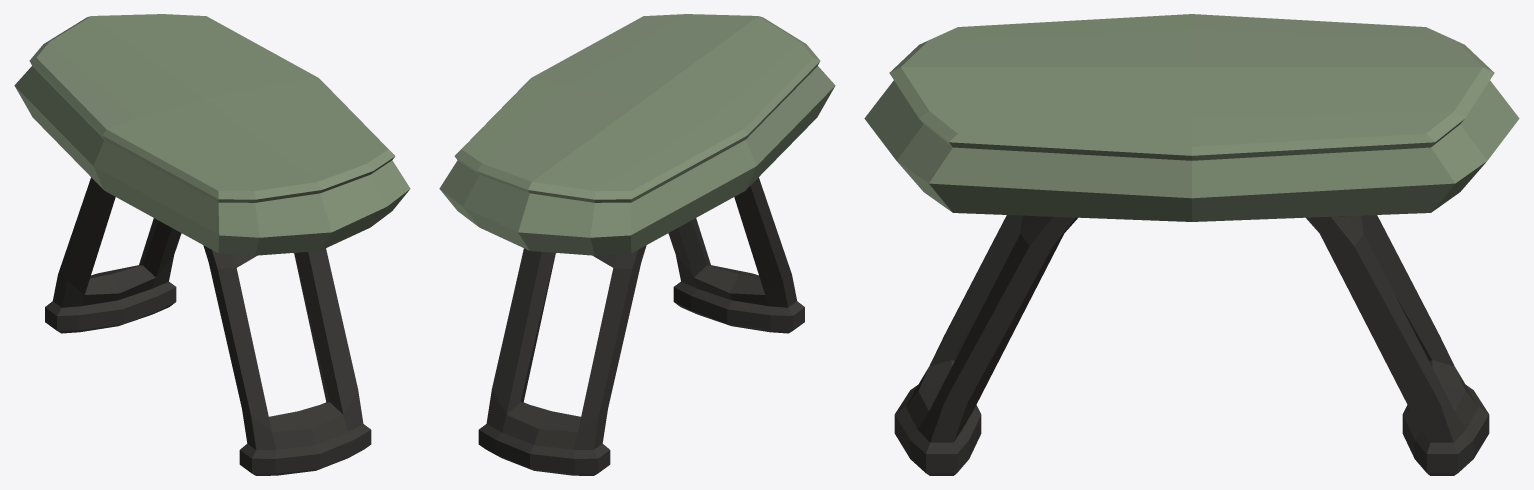
The model's file is PianoSeat.fbx.
The picture shows the model from 3 angles, left to right: view 1: azimuth 30°, elevation 25°; view 2: azimuth 150°, elevation 25°; view 3: azimuth 270°, elevation 25°; orthographic projection. The views are drawn at different scales.
Parts seen in each view (by area): view 1: Seat; view 2: Seat; view 3: Seat.
Part boxes in pixels (left/top/right/bottom): Seat: left=14, top=14, right=410, bottom=475; Seat: left=439, top=14, right=835, bottom=475; Seat: left=864, top=14, right=1519, bottom=475.
Bounding box in the file's own units: 24.82 × 28.89 × 46.01.
